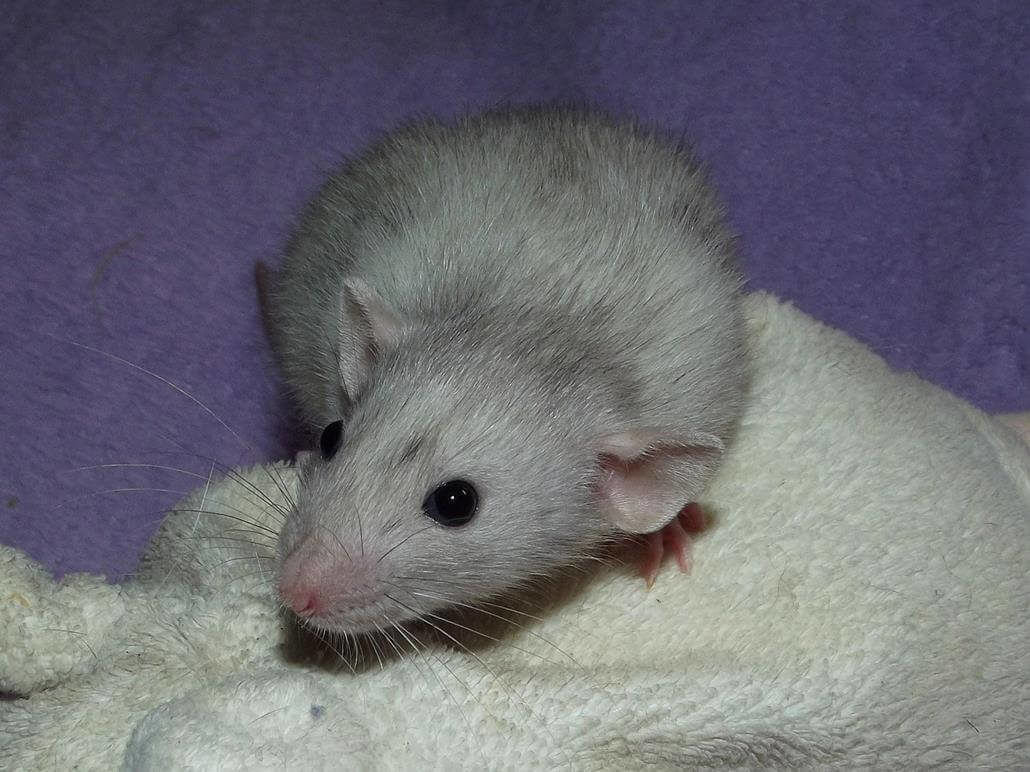rat: (201, 74, 812, 670)
